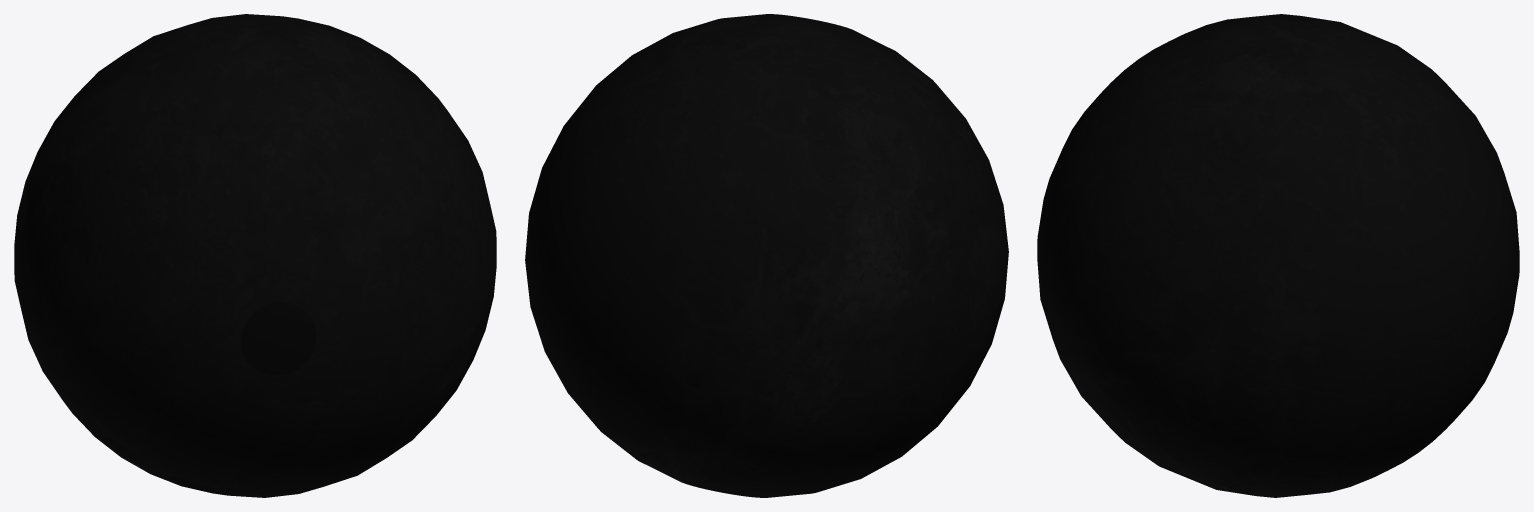
The model's file is bowling_ball.FBX.
3 views of the same model, side by side, from view 1: azimuth 30°, elevation 25°; view 2: azimuth 150°, elevation 25°; view 3: azimuth 270°, elevation 25° (orthographic).
Parts seen in each view (by area): view 1: ball; view 2: ball; view 3: ball.
Boxes of the visible parts, x1,y1,x2,y2 form: ball: (14, 14, 496, 497); ball: (525, 14, 1008, 497); ball: (1037, 14, 1519, 497).
Size of the model in its own units: 22.17 by 22.26 by 22.21.
Materials: 1 (1 with a texture image).
